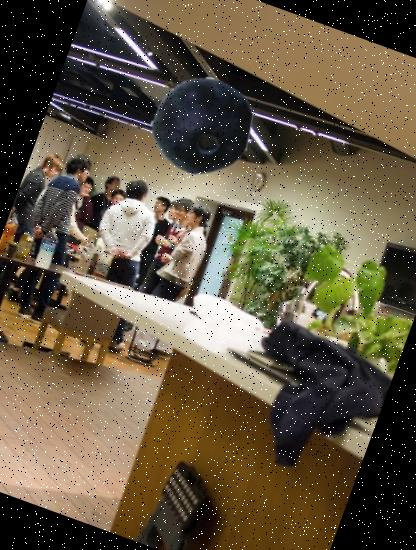Blueberry: (136, 63, 264, 190)
